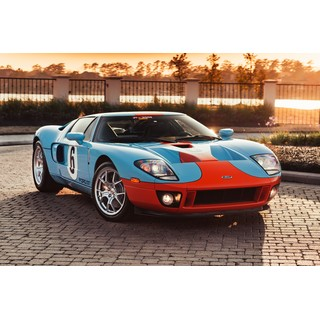car: (27, 109, 283, 225)
